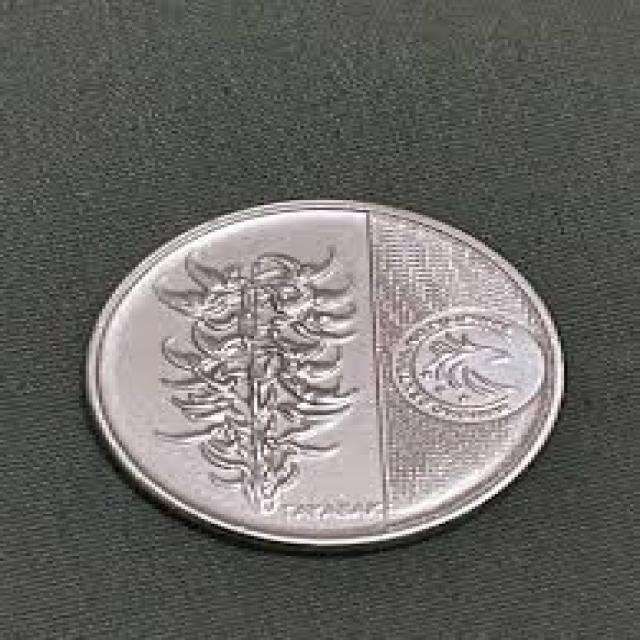5 peso: (77, 187, 573, 555)
